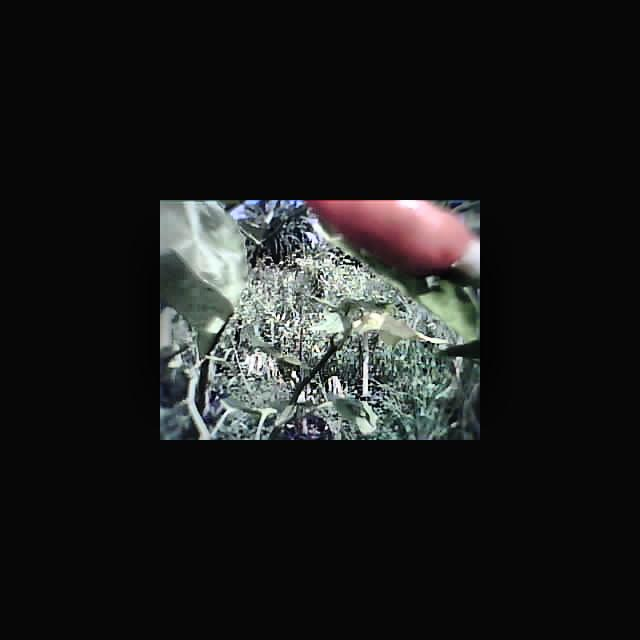Cabai: (313, 200, 466, 271)
